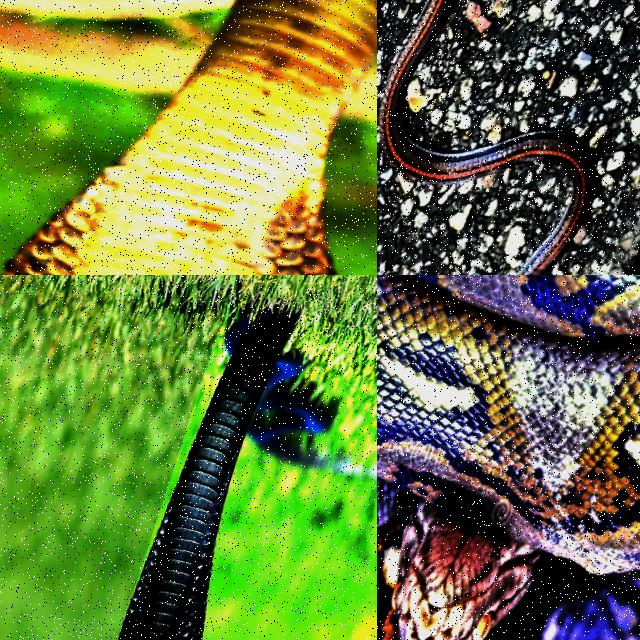Calliophis intestinalis: (380, 0, 595, 274)
Malayopython reticulatus: (377, 275, 639, 639)
Ophiophagus hannah: (0, 0, 376, 274), (119, 308, 376, 639)
